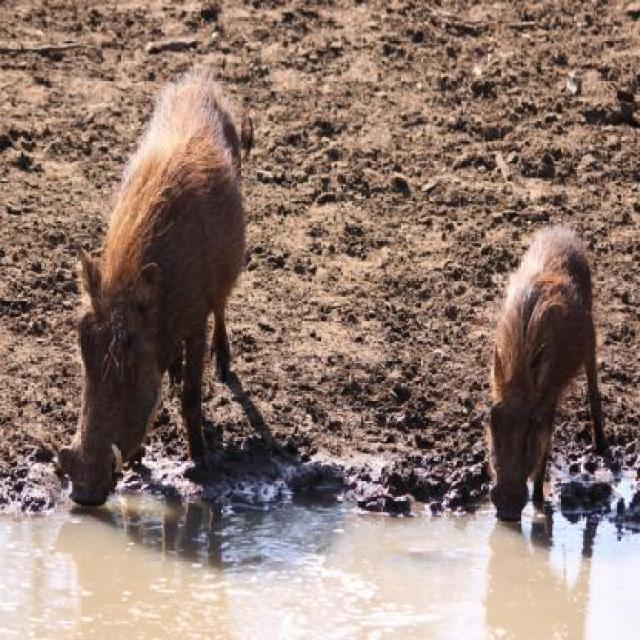pig: (57, 62, 249, 510), (488, 223, 615, 523)
